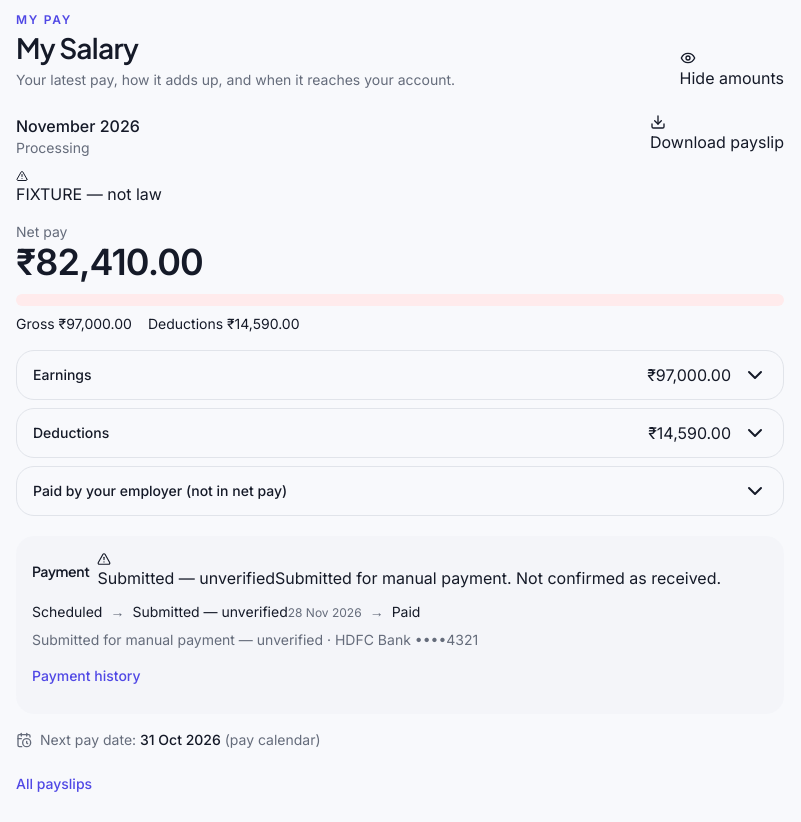
Test: Why this amount? on the employee's payslip › explains lines in the My Salary breakdown too
The image size is (801, 822).
Click the button "Deductions ₹14,590.00" at (71, 432), box [17,409,783,457]
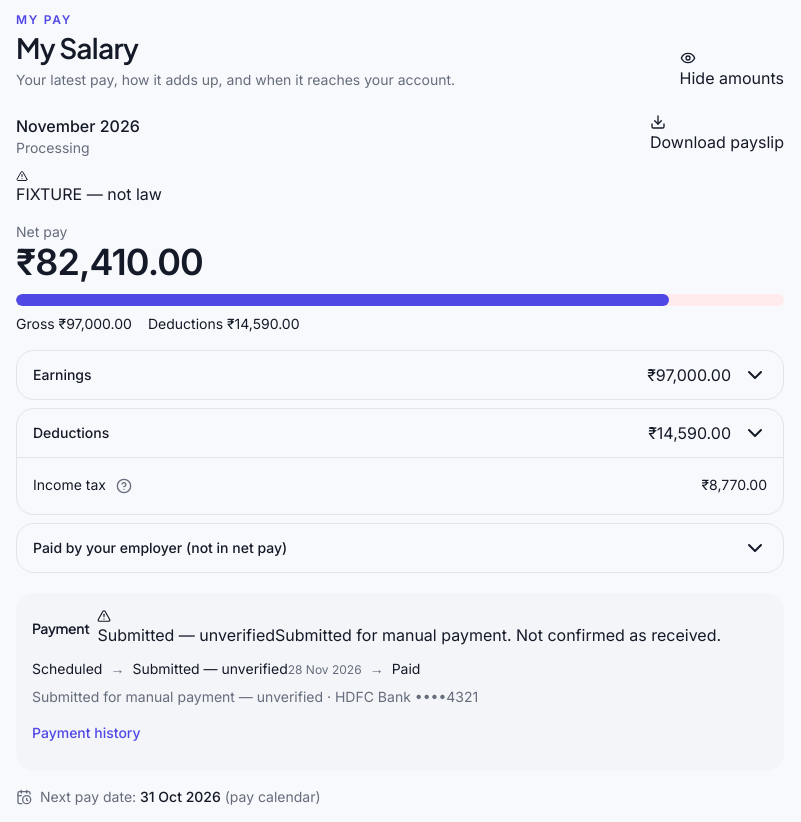
Click the button named "Why this amount? Income tax" at (124, 486), box [110,472,138,500]
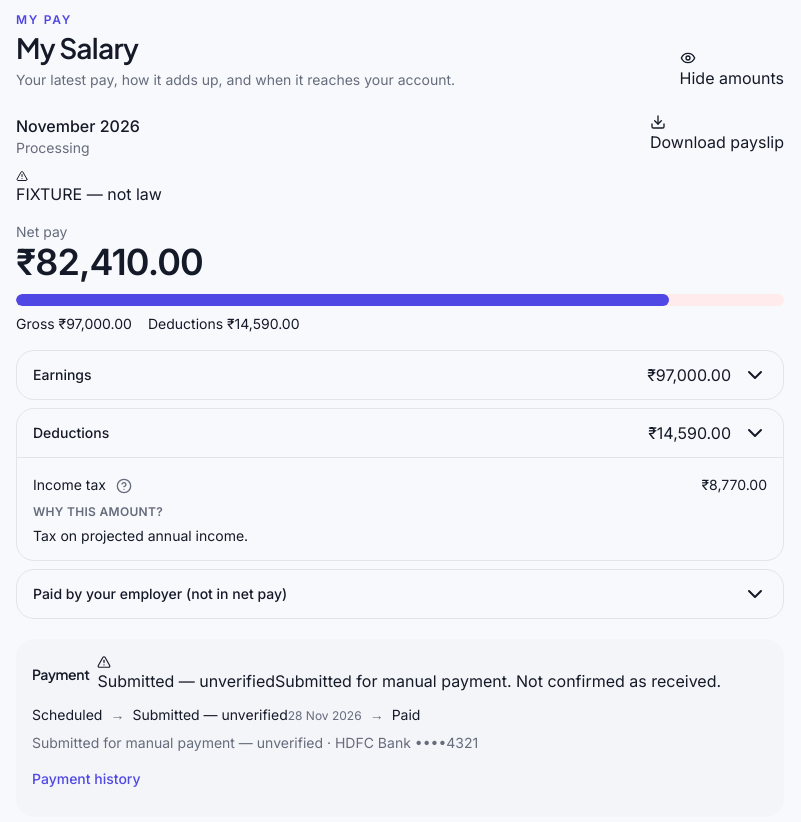
Now the text "Tax on projected annual income." is shown, box [33,527,248,544]
